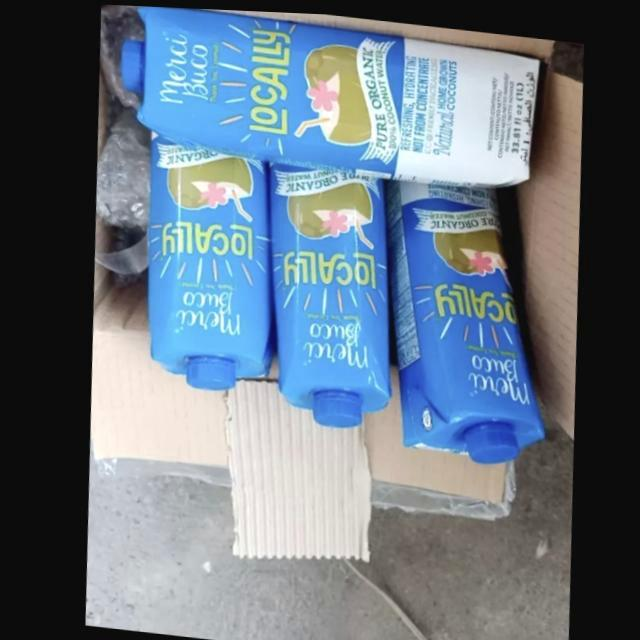cardboard: (220, 371, 367, 557), (514, 62, 582, 431)
